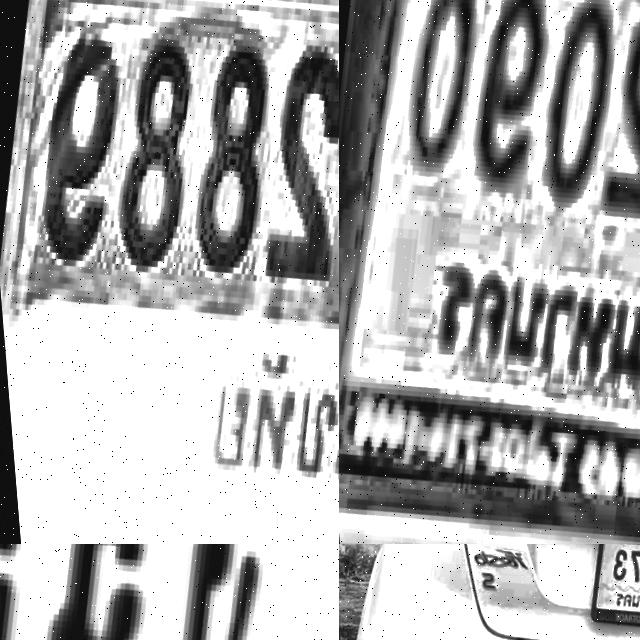license-plate: (0, 0, 339, 544), (339, 0, 640, 544), (0, 544, 339, 640), (574, 544, 640, 640)
